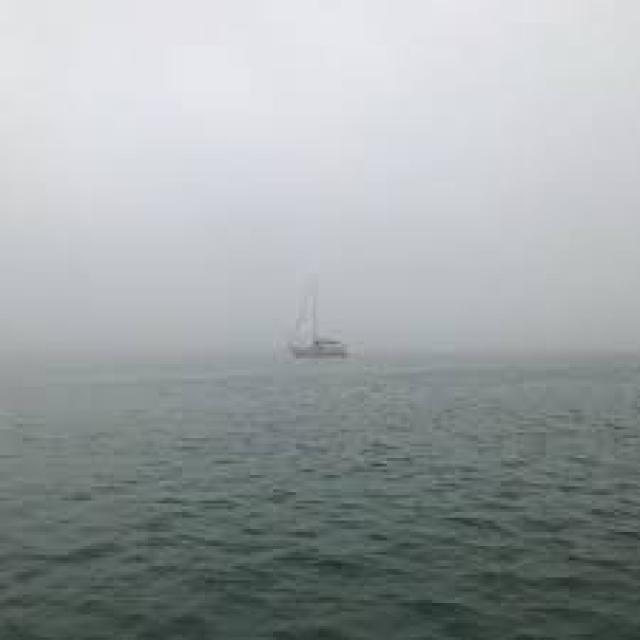passenger ship: (275, 271, 338, 358)
